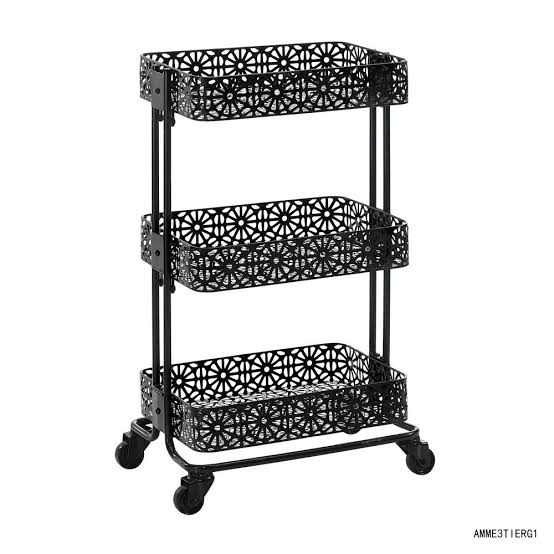Carts: (114, 40, 434, 518)
